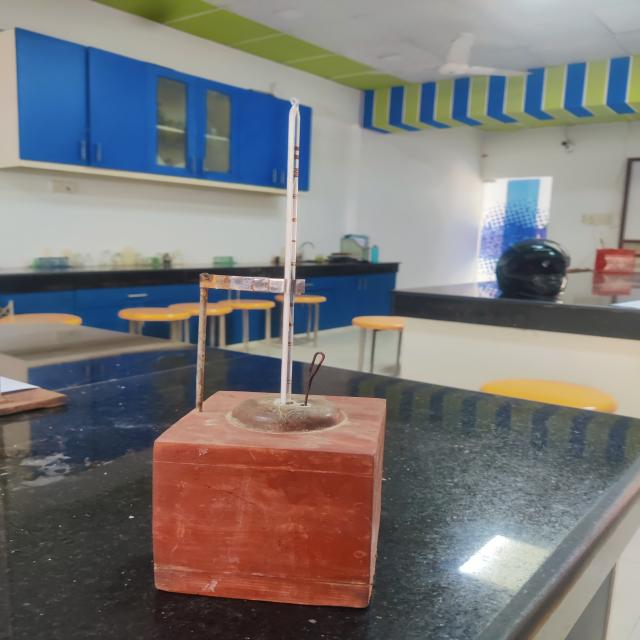Calorimeter: (122, 76, 446, 638)
